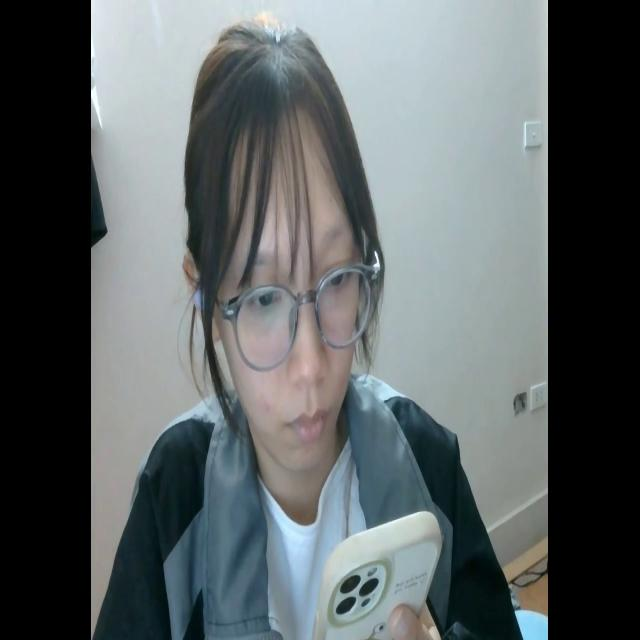phone: (314, 504, 444, 640)
student: (100, 17, 518, 640)
